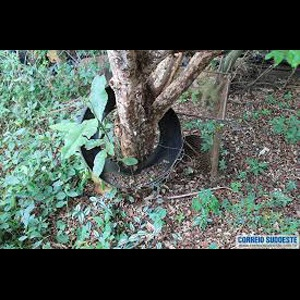tire: (77, 88, 184, 193)
